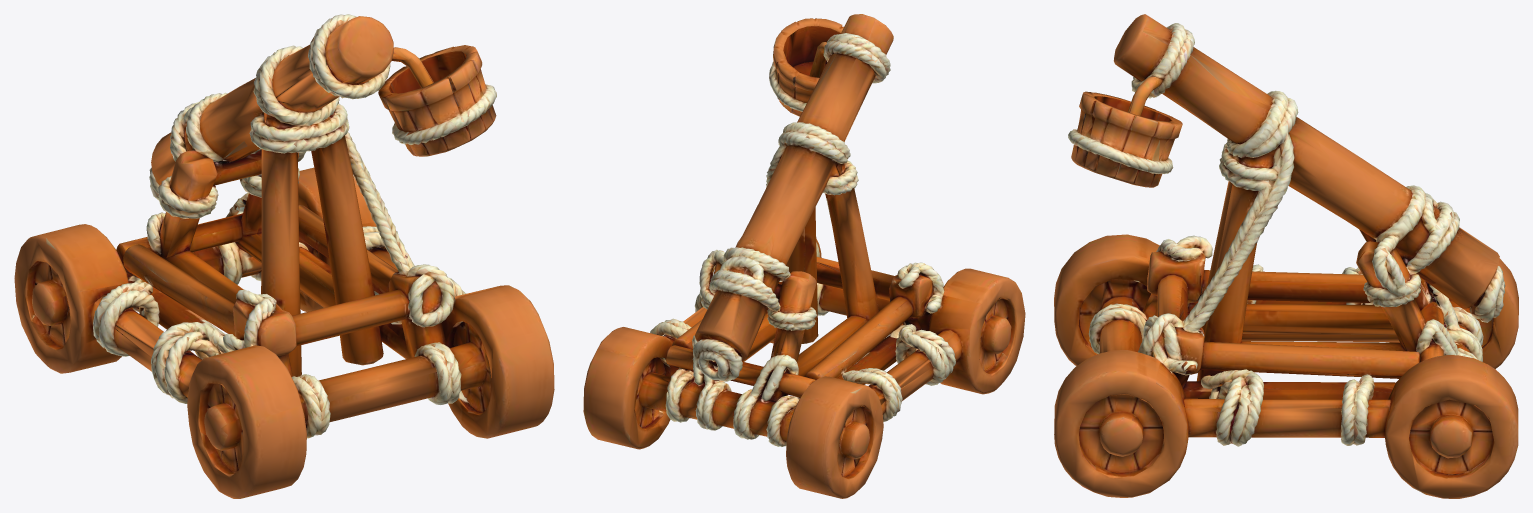
Rendered from catapult.glb.
3 renders of one model, left to right at view 1: azimuth 30°, elevation 25°; view 2: azimuth 150°, elevation 25°; view 3: azimuth 270°, elevation 25°, orthographic. The views are drawn at different scales.
Visible parts, largest first — view 1: catapult; view 2: catapult; view 3: catapult.
Boxes of the visible parts, left/top/right/bottom form: catapult: left=14, top=14, right=554, bottom=498; catapult: left=583, top=14, right=1025, bottom=498; catapult: left=1054, top=14, right=1518, bottom=498.
Bounding box in the file's own units: 0.7685 × 1 × 1.02.
1 material, 1 textured.
